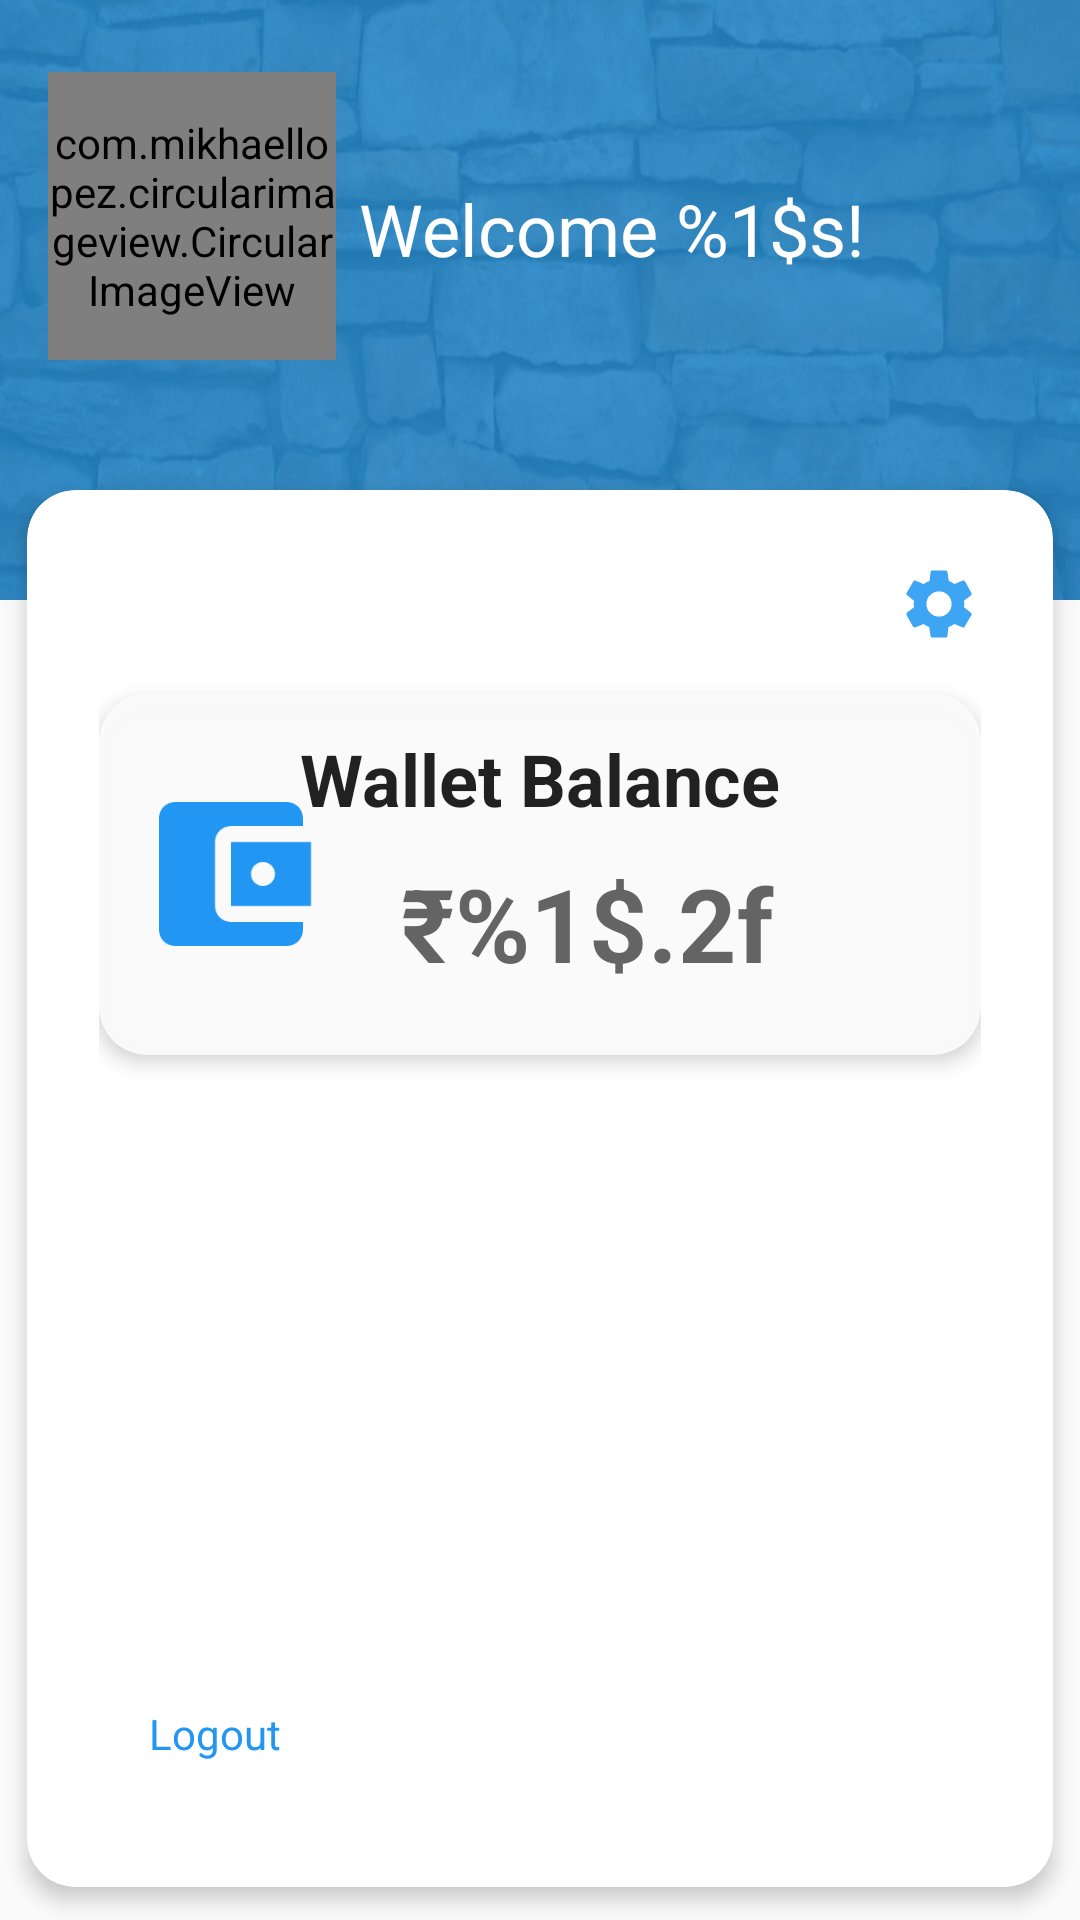

Icons on this 1080w x 1920h Android screen, each with its box as box=[x1, y1, x2, y2]:
settings cog: box=[906, 570, 972, 638]
